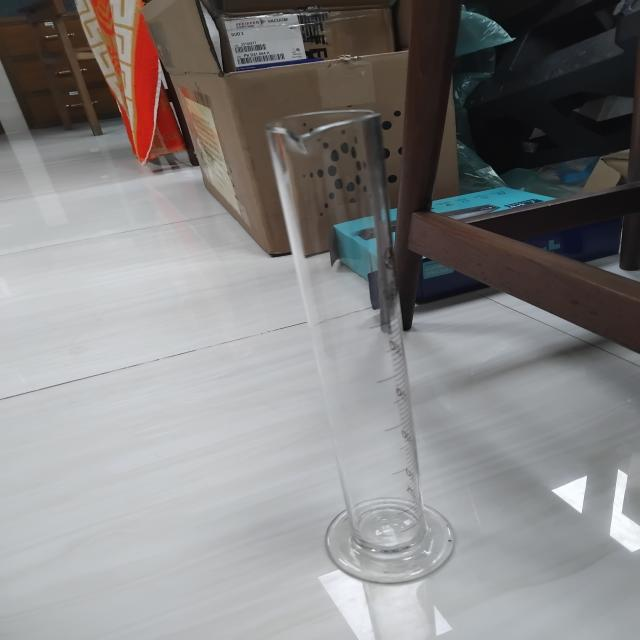Measuring_Cylinder: (215, 69, 507, 609)
